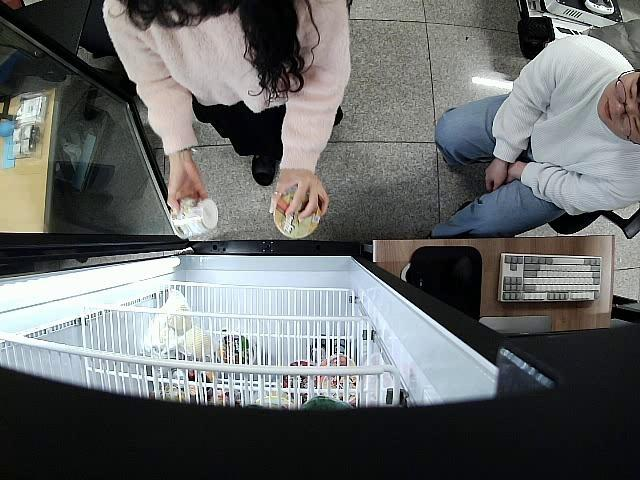04_chapagetti_S: (274, 186, 322, 237), (168, 197, 220, 239)
